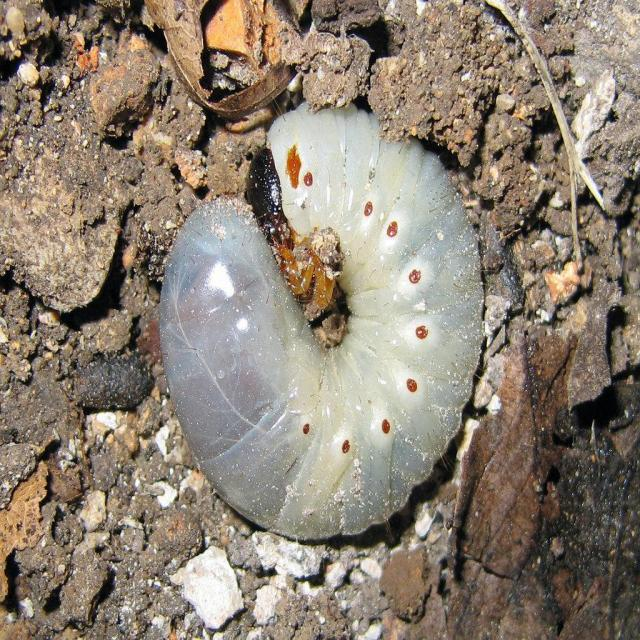Grub-Adult-: (156, 87, 489, 537)
